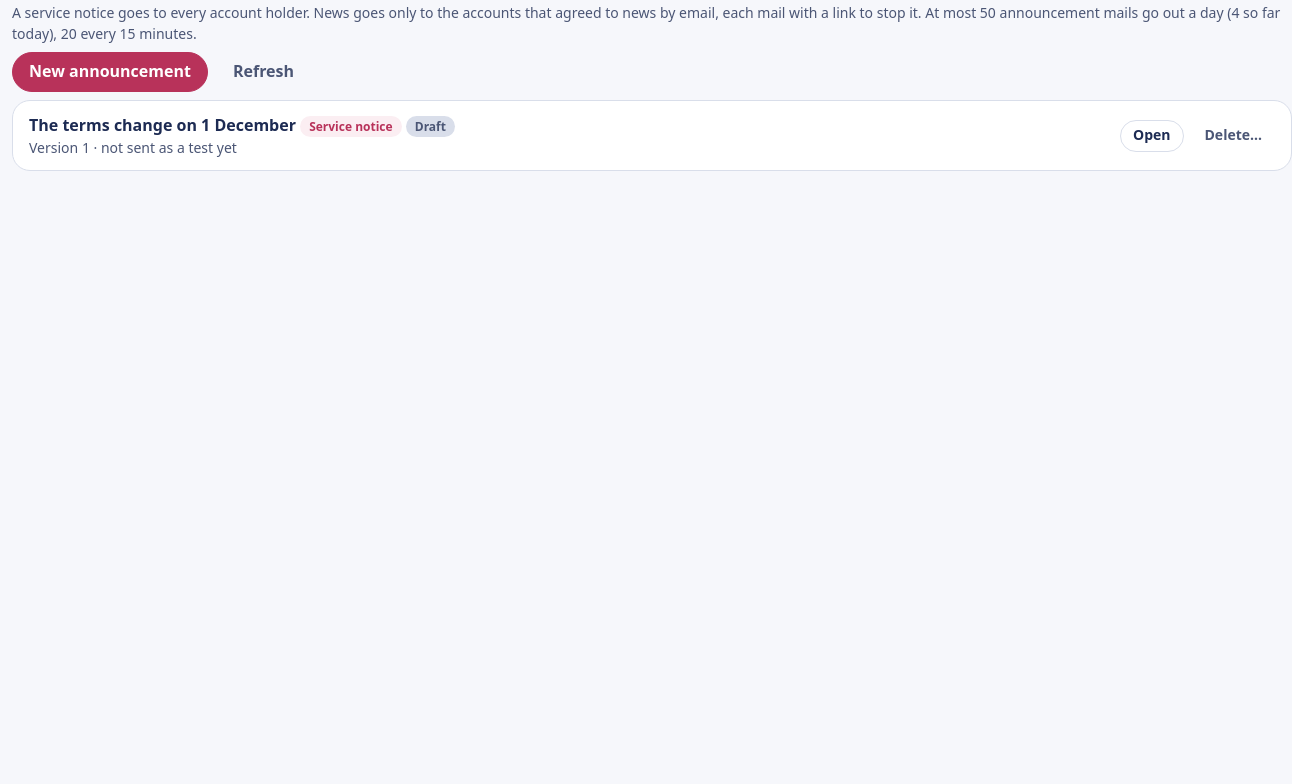
Scenario: AdminAnnouncements: the Mail tab (#185, #215) › lets a version be sent only after its test send, and not with changes that are not saved
The image size is (1292, 784).
Click the button "Open": coordinates (1152, 136) [1120,120,1184,152]
(page scrolled)
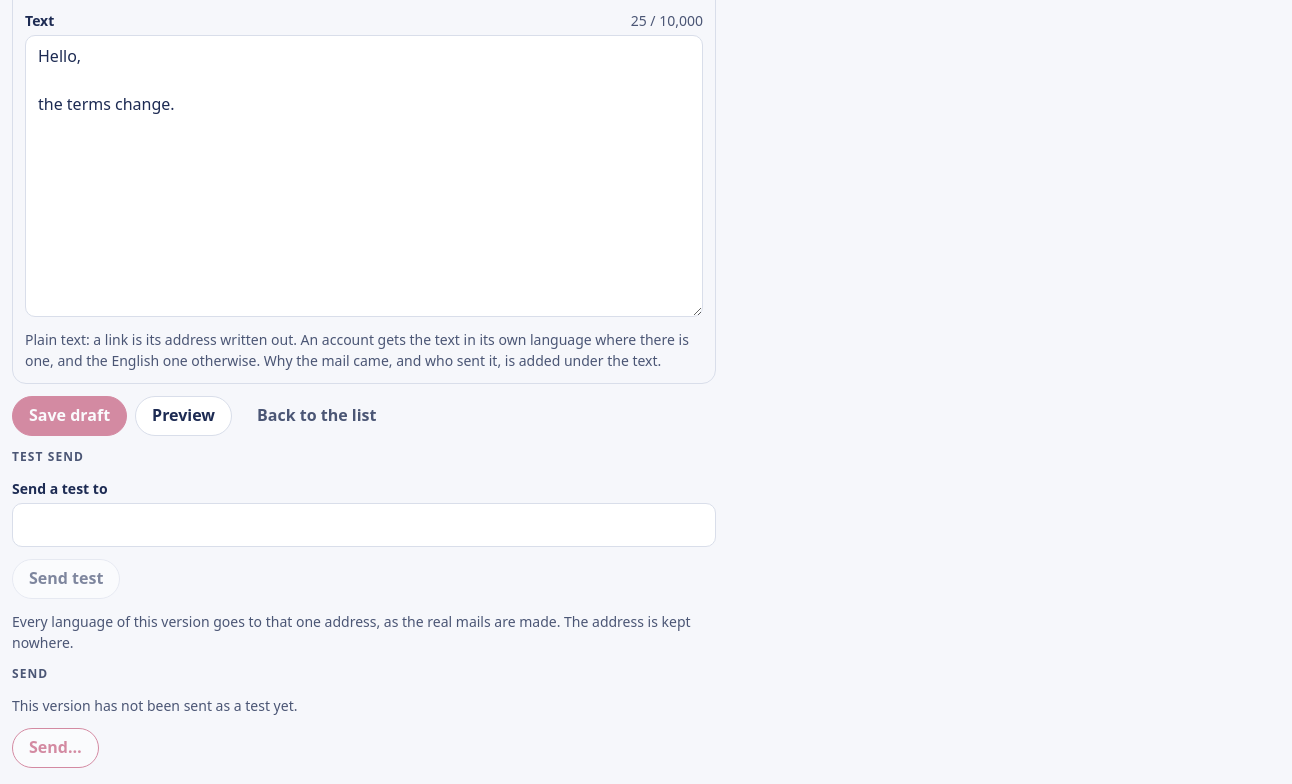
Result: the button "Send…" is disabled at [12,728,99,768]
Result: the text "This version has not been sent as a test yet." is shown at [12,695,298,716]
In the field labelled "Send a test to": coordinates (364, 525) [12,503,716,547], type " owner@example.com "
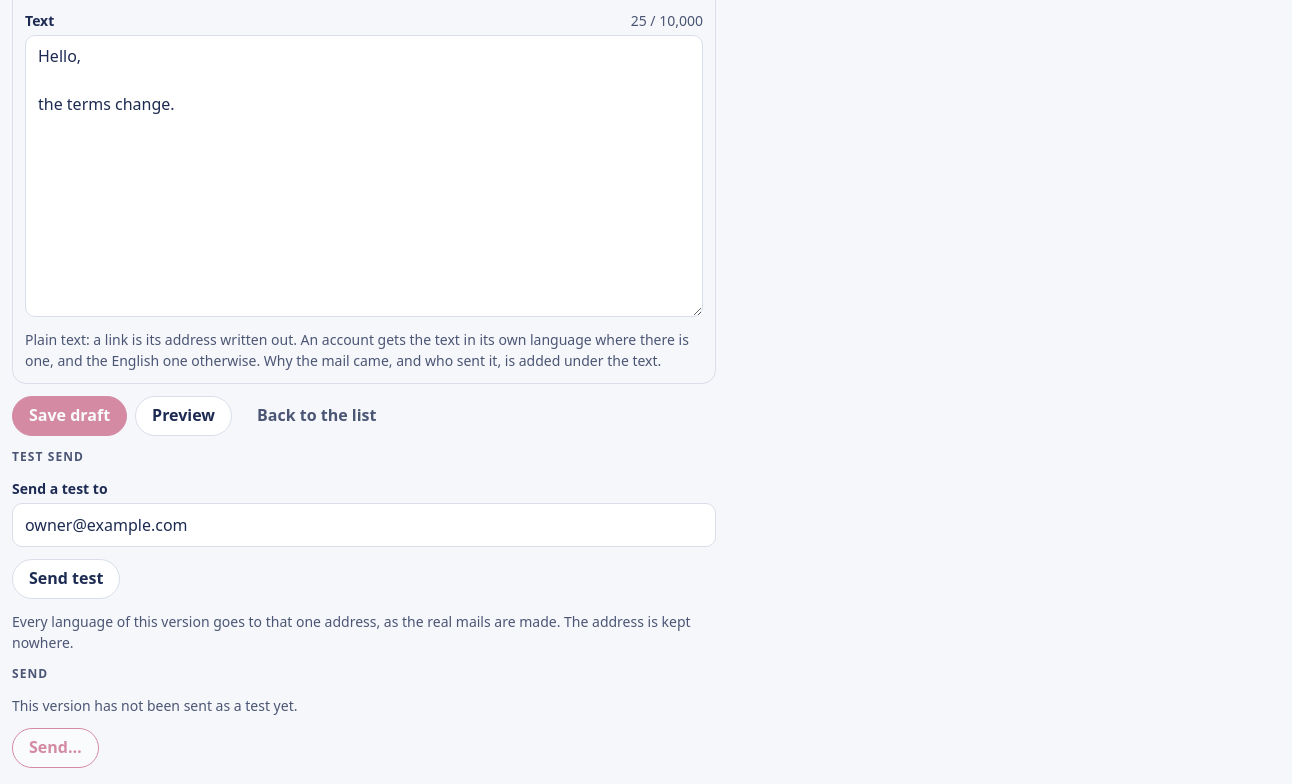
Click the button "Send test": coordinates (66, 579) [12,559,120,599]
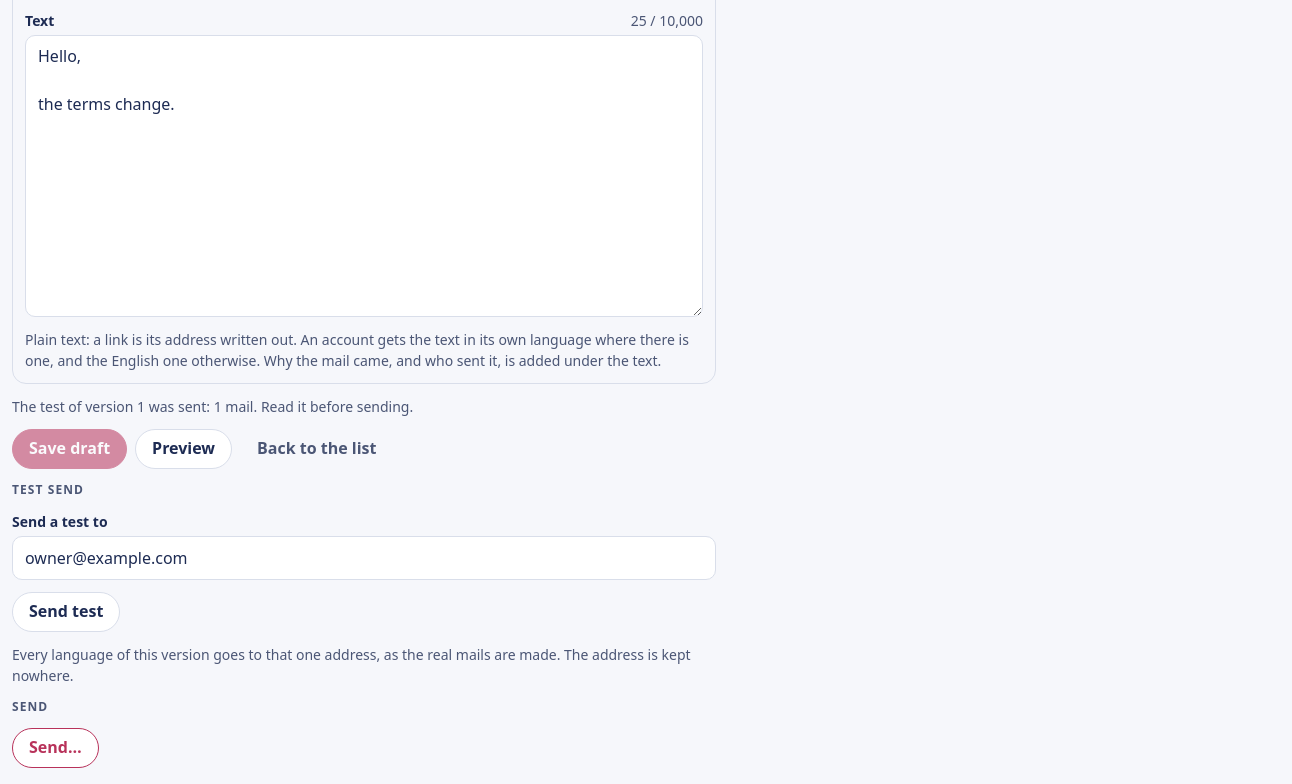
Result: the text "The test of version 1 was sent: 1 mail. Read it before sending." is shown at [12,396,413,417]
Result: the button "Send…" is enabled at [12,728,99,768]
Replace the text in the text box labelled "Text" with "Another text.": coordinates (364, 176) [25,35,703,317]
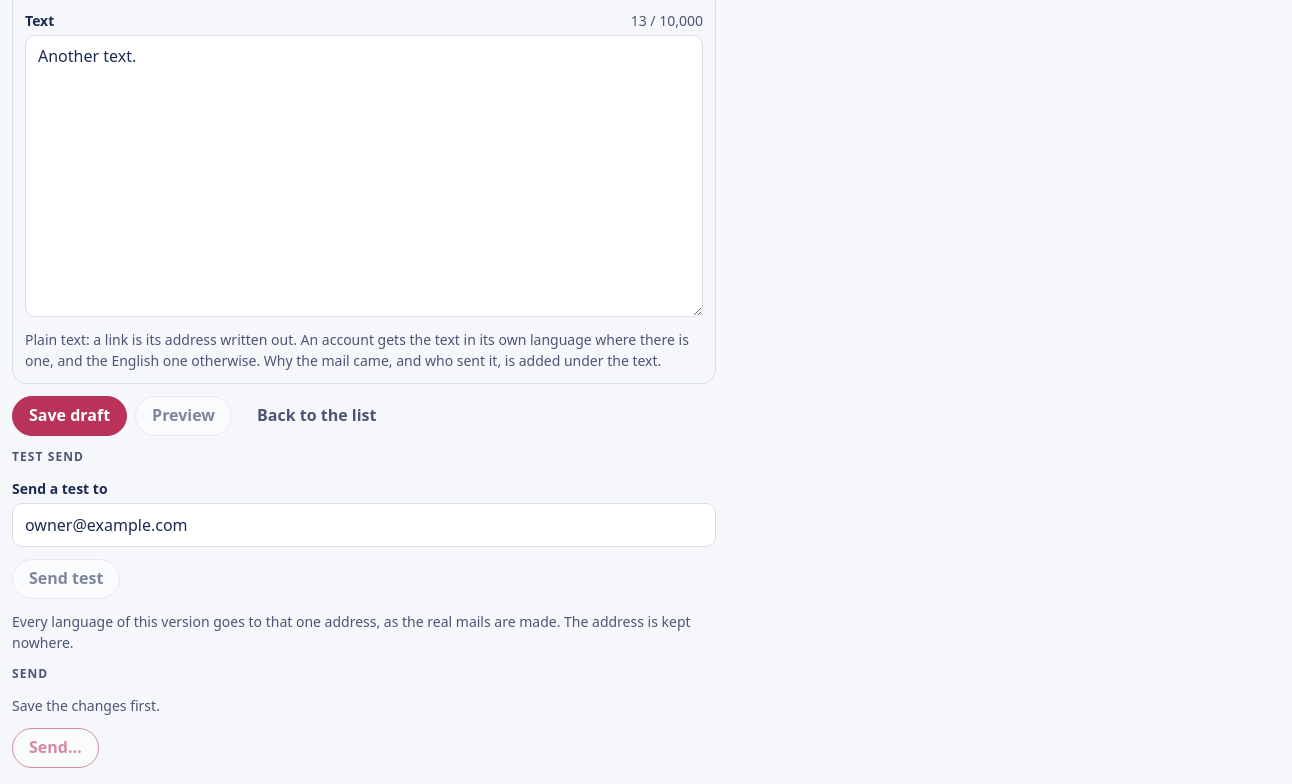
Result: the button "Send…" is disabled at [12,728,99,768]
Result: the button "Send test" is disabled at [12,559,120,599]
Result: the text "Save the changes first." is shown at [12,695,160,716]
Click the button "Save draft": coordinates (70, 416) [12,396,127,436]
(page scrolled)
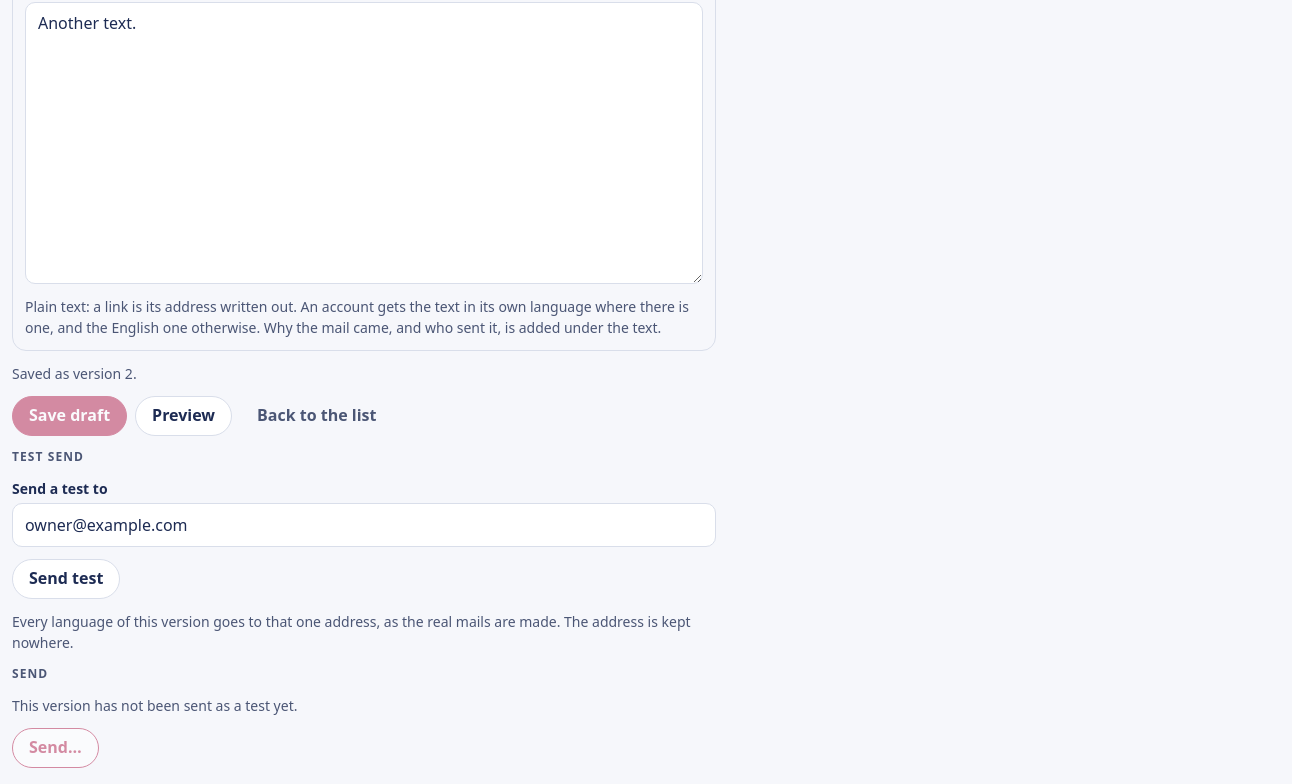
Result: the button "Send…" is disabled at [12,728,99,768]
Result: the text "This version has not been sent as a test yet." is shown at [12,695,298,716]
